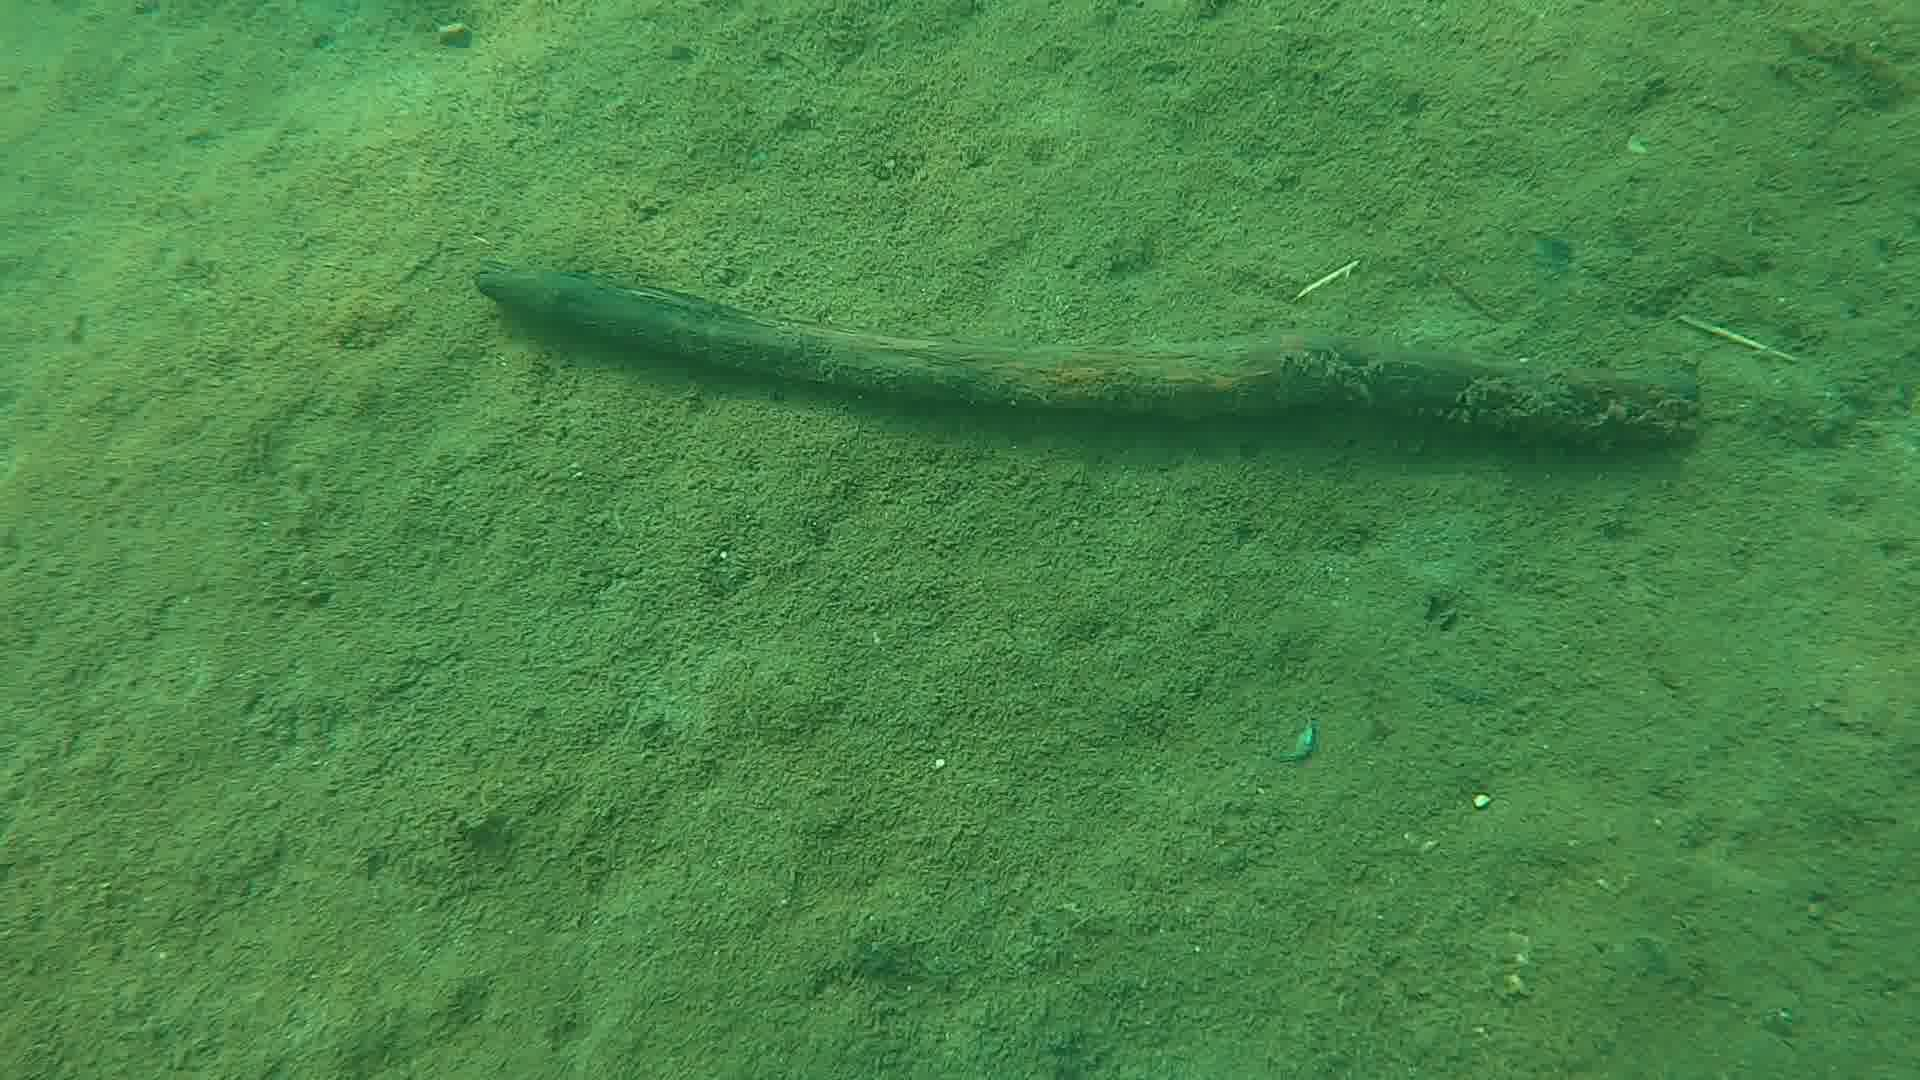wood: (469, 257, 1702, 448)
